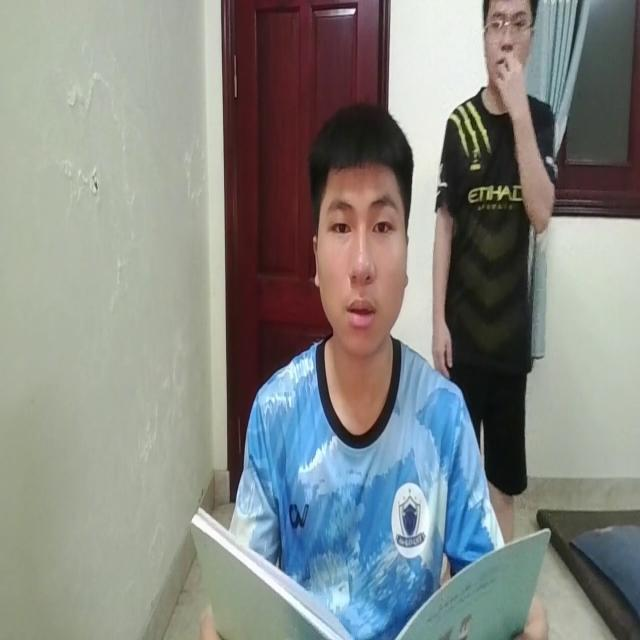book: (185, 499, 550, 640)
extra_person: (429, 0, 556, 491)
student: (230, 99, 497, 572)
